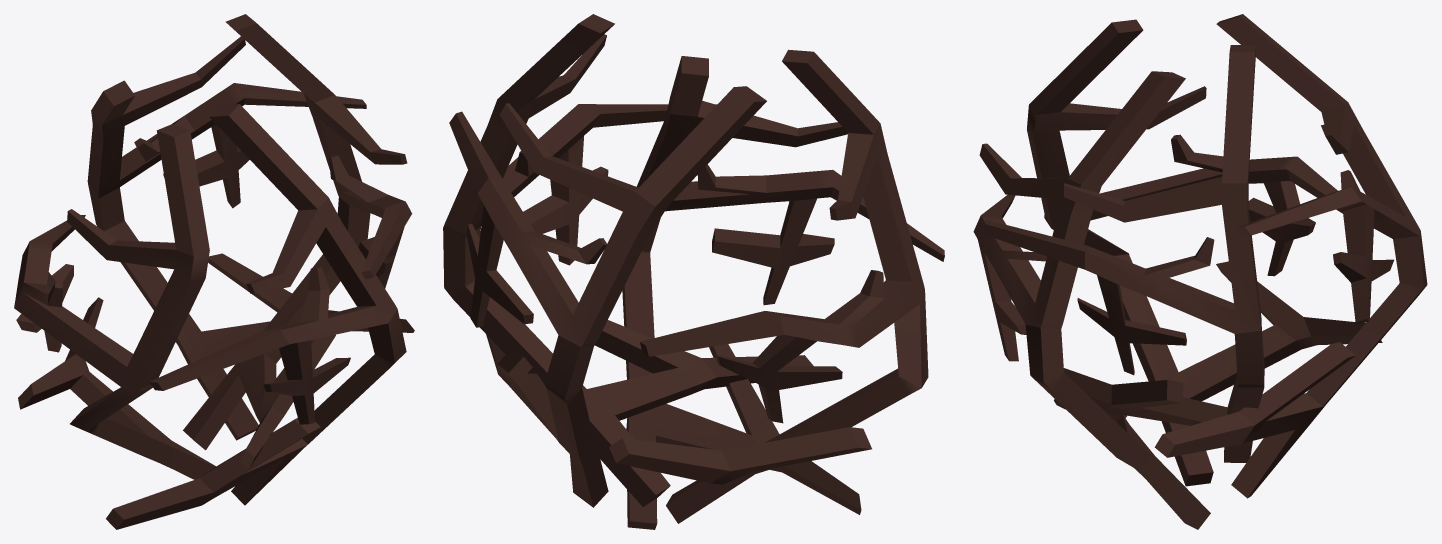
The model's file is david_tumbleweed.FBX.
3 renders of one model, left to right at view 1: azimuth 30°, elevation 25°; view 2: azimuth 150°, elevation 25°; view 3: azimuth 270°, elevation 25°, orthographic. The views are drawn at different scales.
Visible parts, largest first — view 1: pCube6; view 2: pCube6; view 3: pCube6.
Boxes of the visible parts, x1,y1,x2,y2 form: pCube6: [14, 14, 414, 529]; pCube6: [443, 14, 944, 529]; pCube6: [973, 14, 1427, 529].
Bounding box in the file's own units: 0.6574 × 0.7847 × 0.6601.
